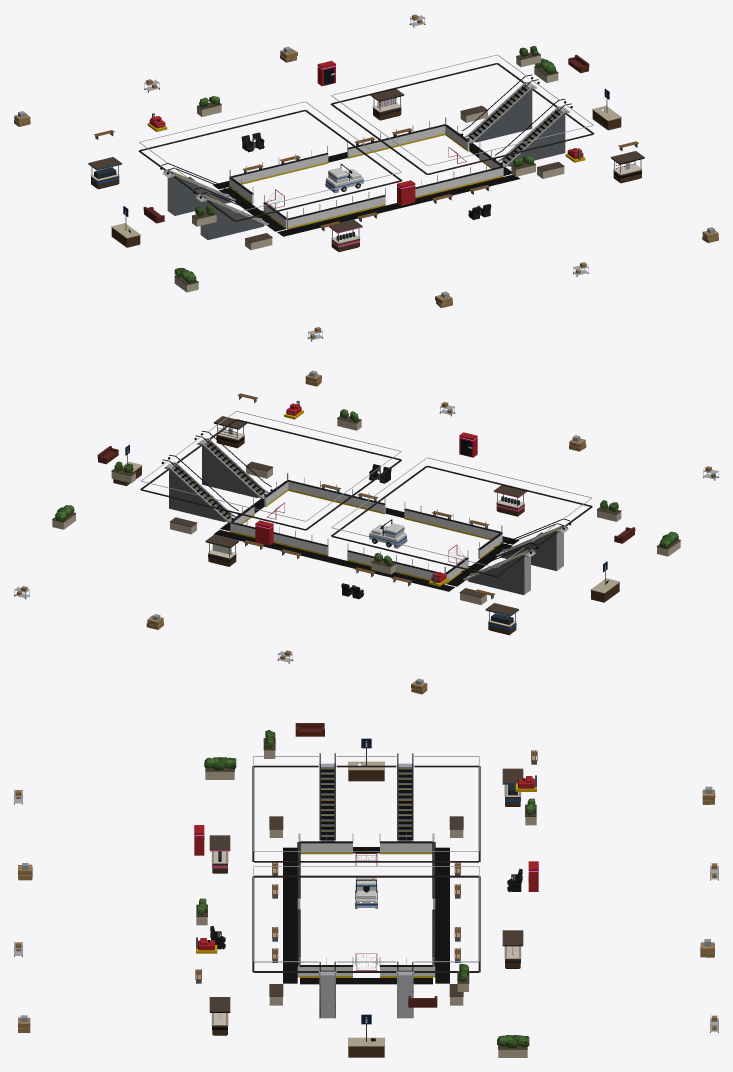
Rendered from gl-atrium.glb.
3 renders of one model, top to bottom at view 1: azimuth 30°, elevation 25°; view 2: azimuth 150°, elevation 25°; view 3: azimuth 270°, elevation 25°, orthographic. The views are drawn at different scales.
Visible parts, largest first — view 1: gl-atrium; view 2: gl-atrium; view 3: gl-atrium.
Part boxes in pixels (bbox=[...]): gl-atrium: bbox=[14, 14, 718, 341]; gl-atrium: bbox=[14, 370, 718, 694]; gl-atrium: bbox=[14, 723, 718, 1057].
Bounding box in the file's own units: 59.84 × 6.79 × 62.6.
